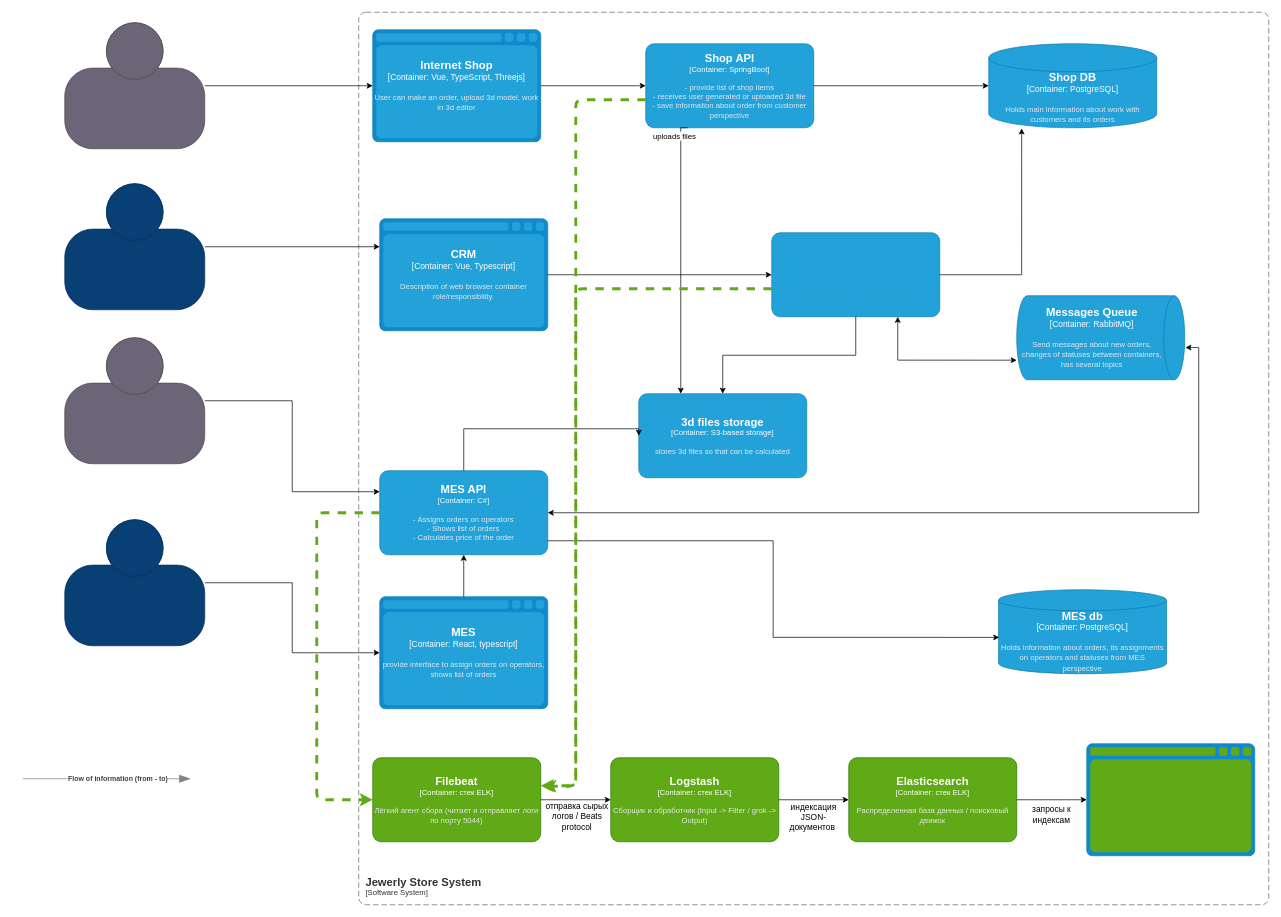
Image size: 1281x917. Some labels were removed from this diagram. The shapes that lost their labels are listed below. From the top down, each one's box as (x1, y1, x2, y2) in pixels, then its label:
(64, 22, 205, 149): Customer [Person] Description of external person.
(64, 183, 205, 310): Seller [Person] Operates with order, confirms manufacturing for the user
(771, 232, 940, 317): CRM API [Container: SpringBoot] Description of container role/responsibility.
(64, 337, 205, 464): API user [Person] Description of external person.
(64, 519, 205, 646): Operator [Person] Takes order in work, manufactures jewerly
(1086, 743, 1255, 856): Kibana [Container: стек ELK] Веб-интерфейс для графиков, дашбордов и поиска
